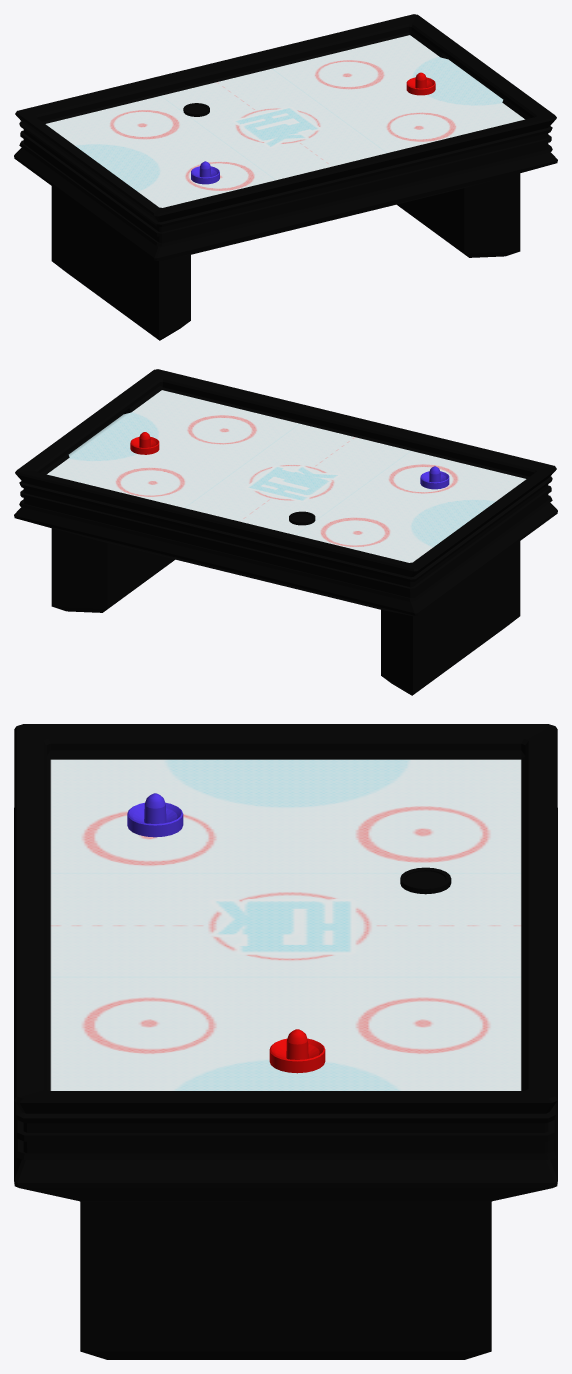
Rendered from myTable.fbx.
3 views of the same model, one above another, from view 1: azimuth 30°, elevation 25°; view 2: azimuth 150°, elevation 25°; view 3: azimuth 270°, elevation 25° (orthographic). The views are drawn at different scales.
Visible parts, largest first — view 1: Warehouse_Models:pCube2, Warehouse_Models:pCube2.002, Warehouse_Models:pCube2.001; view 2: Warehouse_Models:pCube2, Warehouse_Models:pCube2.001, Warehouse_Models:pCube2.002; view 3: Warehouse_Models:pCube2, Warehouse_Models:pCube2.001, Warehouse_Models:pCube2.002, Warehouse_Models:pCube2.003.
Boxes of the visible parts, bbox=[...] form: Warehouse_Models:pCube2: bbox=[14, 14, 557, 340]; Warehouse_Models:pCube2.002: bbox=[406, 72, 435, 95]; Warehouse_Models:pCube2.001: bbox=[191, 161, 219, 184]; Warehouse_Models:pCube2: bbox=[14, 369, 557, 695]; Warehouse_Models:pCube2.001: bbox=[420, 466, 449, 489]; Warehouse_Models:pCube2.002: bbox=[130, 432, 159, 454]; Warehouse_Models:pCube2: bbox=[14, 724, 557, 1359]; Warehouse_Models:pCube2.001: bbox=[127, 793, 183, 837]; Warehouse_Models:pCube2.002: bbox=[269, 1029, 325, 1073]; Warehouse_Models:pCube2.003: bbox=[400, 867, 451, 894].
Size of the model in its own units: 256 by 94.44 by 156.
